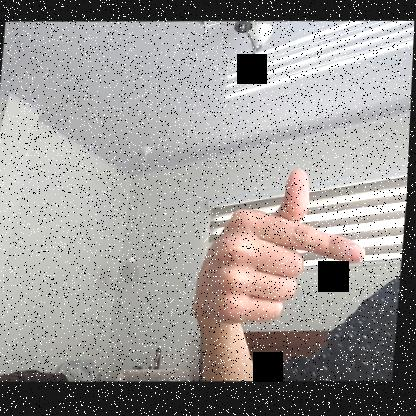T: (190, 164, 376, 338)
